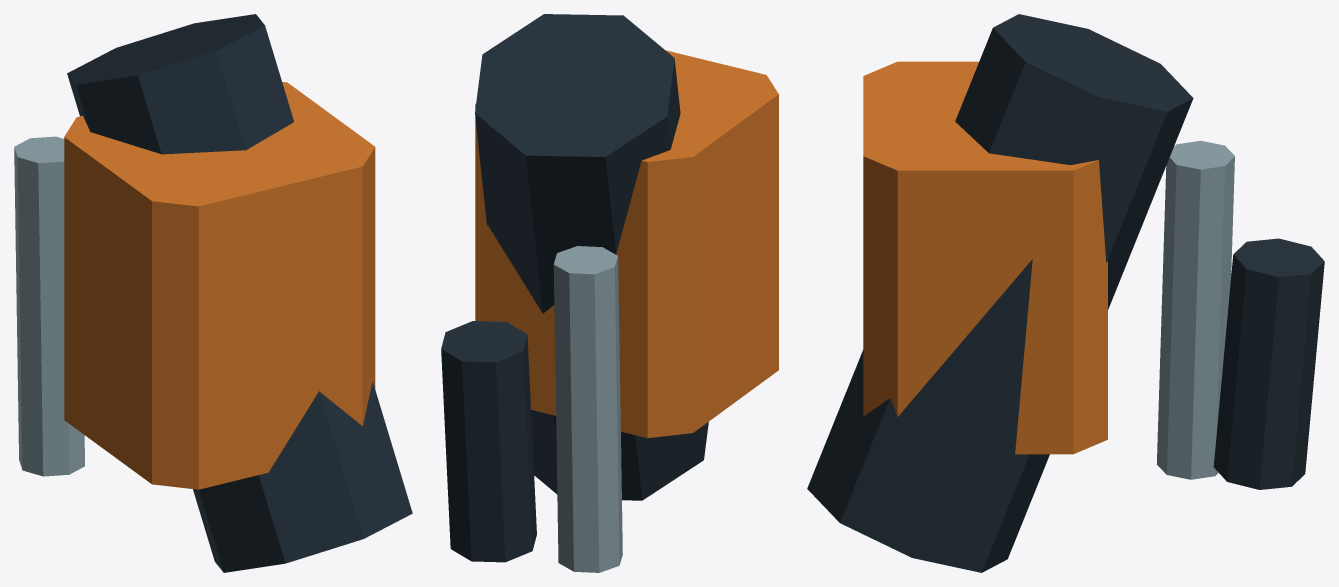
Rendered from enemy_runner_thigh_r.obj.
The picture shows the model from 3 angles, left to right: view 1: azimuth 30°, elevation 25°; view 2: azimuth 150°, elevation 25°; view 3: azimuth 270°, elevation 25°; orthographic projection. The views are drawn at different scales.
Bounding box in the file's own units: 0.3062 × 0.5695 × 0.5294.
